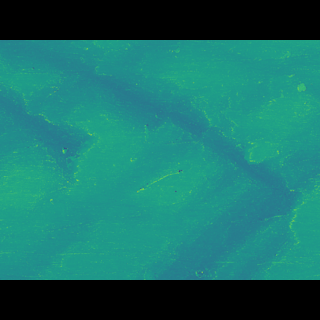Loch: (101, 100, 290, 187), (131, 168, 320, 249), (0, 99, 93, 219)
